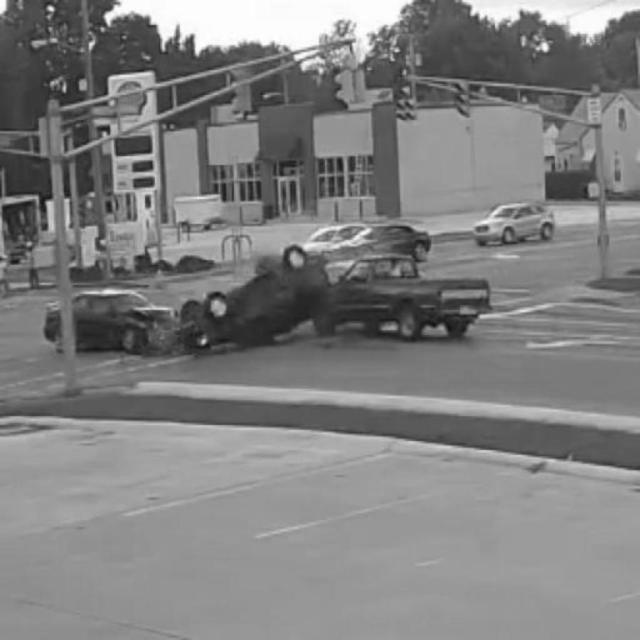accident: (187, 255, 494, 347), (45, 265, 323, 363)
vehicle: (329, 215, 433, 263), (474, 201, 557, 246)
